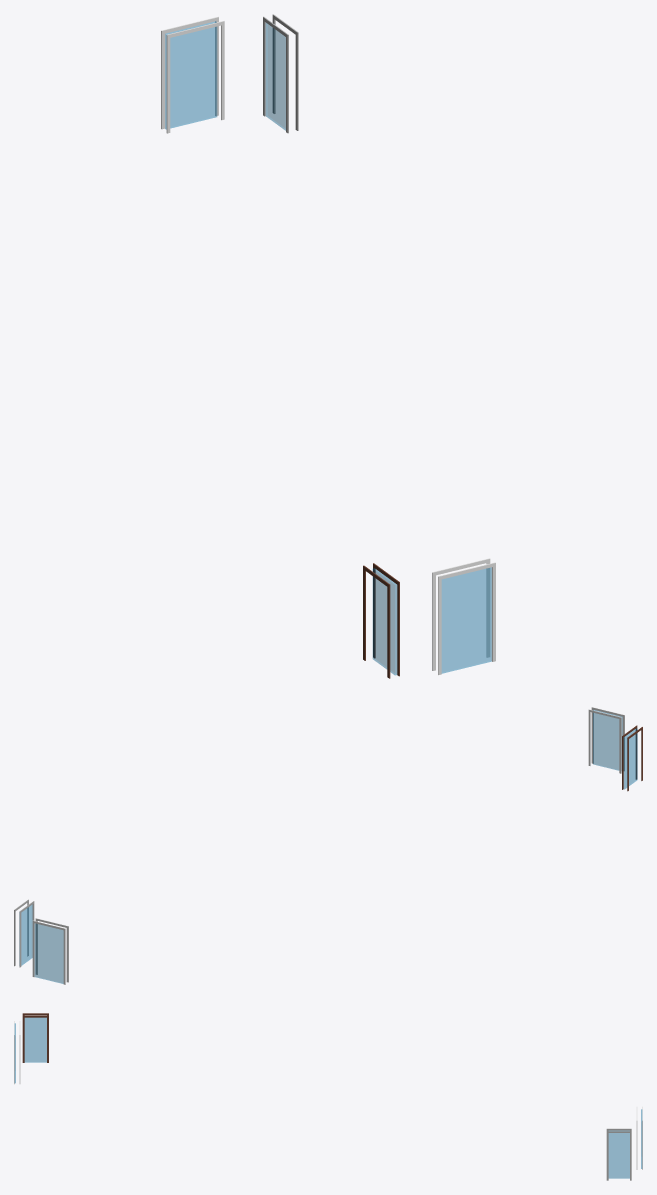
File: Zoll_Base_Version3_Level_4_IfcDoor.dae
The picture shows the model from 3 angles, top to bottom: view 1: azimuth 30°, elevation 25°; view 2: azimuth 150°, elevation 25°; view 3: azimuth 270°, elevation 25°; orthographic projection. The views are drawn at different scales.
Parts seen in each view (by area): view 1: 3vSe8fBOnBYuhKn3XRNL6E, 3vSe8fBOnBYuhKn3XRNL6C, 3vSe8fBOnBYuhKn3XRNL6F, 3vSe8fBOnBYuhKn3XRNL69; view 2: 3vSe8fBOnBYuhKn3XRNL6C, 3vSe8fBOnBYuhKn3XRNL6E, 3vSe8fBOnBYuhKn3XRNL69, 3vSe8fBOnBYuhKn3XRNL6F; view 3: 3vSe8fBOnBYuhKn3XRNL69, 3vSe8fBOnBYuhKn3XRNL6F.
Part boxes in pixels (box(x1,y1,x2,y2)): 3vSe8fBOnBYuhKn3XRNL6E: box(432, 558, 495, 675); 3vSe8fBOnBYuhKn3XRNL6C: box(161, 16, 224, 133); 3vSe8fBOnBYuhKn3XRNL6F: box(263, 14, 298, 133); 3vSe8fBOnBYuhKn3XRNL69: box(363, 563, 399, 678); 3vSe8fBOnBYuhKn3XRNL6C: box(32, 918, 68, 984); 3vSe8fBOnBYuhKn3XRNL6E: box(588, 707, 624, 773); 3vSe8fBOnBYuhKn3XRNL69: box(622, 725, 642, 791); 3vSe8fBOnBYuhKn3XRNL6F: box(14, 899, 34, 967); 3vSe8fBOnBYuhKn3XRNL69: box(22, 1013, 48, 1062); 3vSe8fBOnBYuhKn3XRNL6F: box(606, 1128, 631, 1180).
Bounding box in the file's own units: 11.6 × 25.62 × 2.21.
